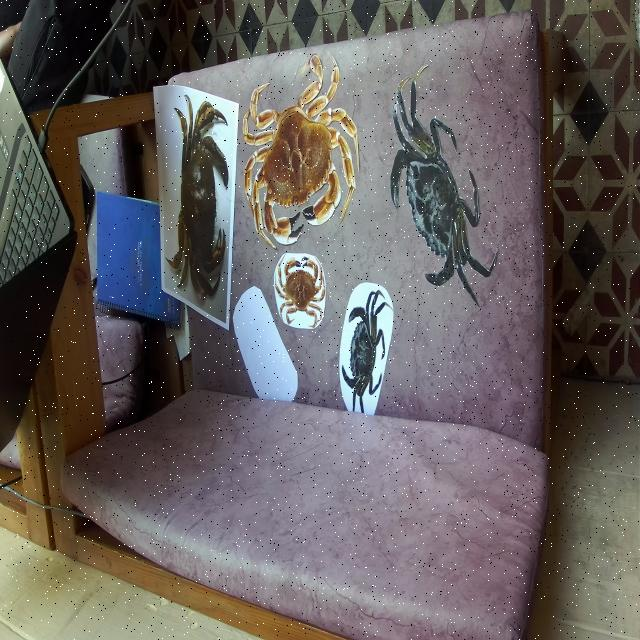European_Green_Crab: (363, 52, 512, 350), (334, 277, 396, 427)
